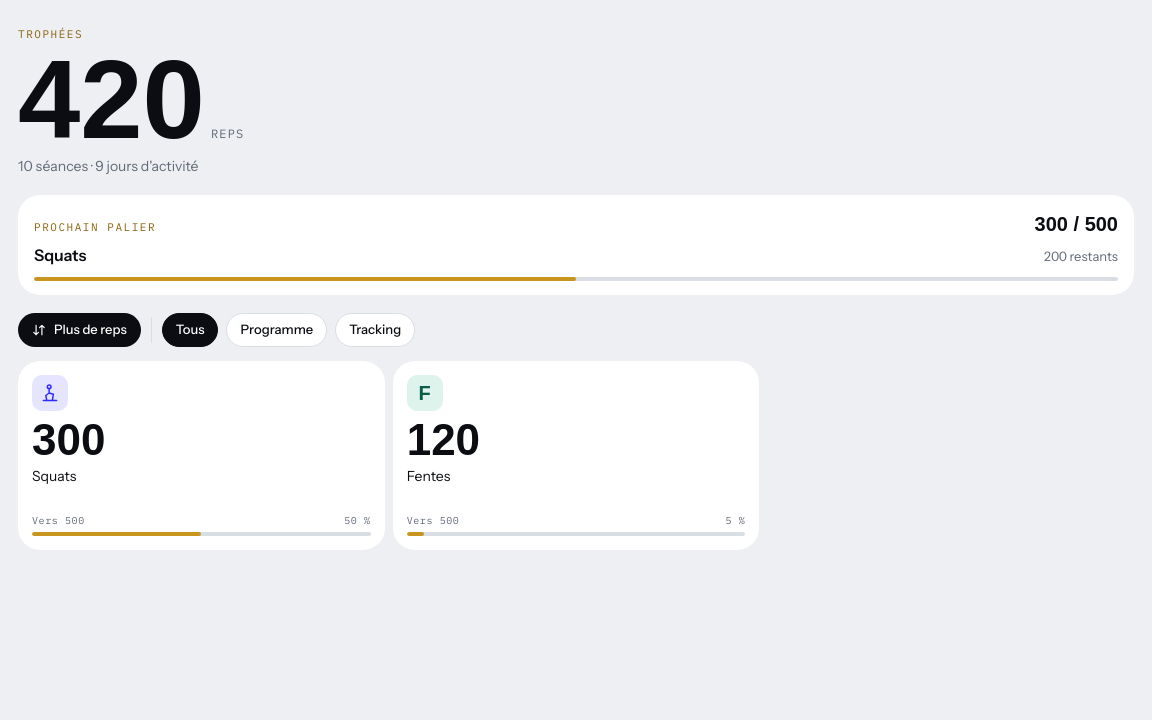
TropheesScreen › cycles the sort with a single button
What coordinates should you click on to do the following:
click the button with aria-label "Trier : Plus de reps"
I would click on:
 (79, 330)
Its box is [18,313,141,347].
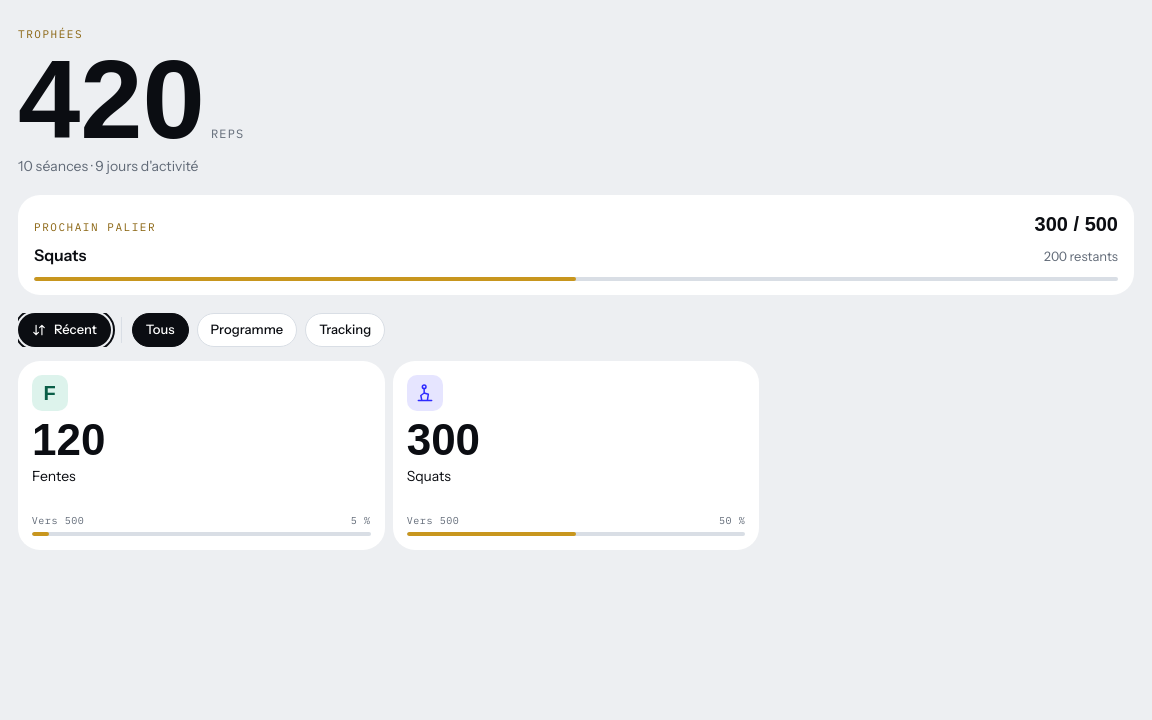
Expected: the button with aria-label "Trier : Récent" is shown
What coordinates should you click on to do the following:
click the button with aria-label "Trier : Récent"
I would click on:
 (64, 330)
Its box is [18,313,111,347].
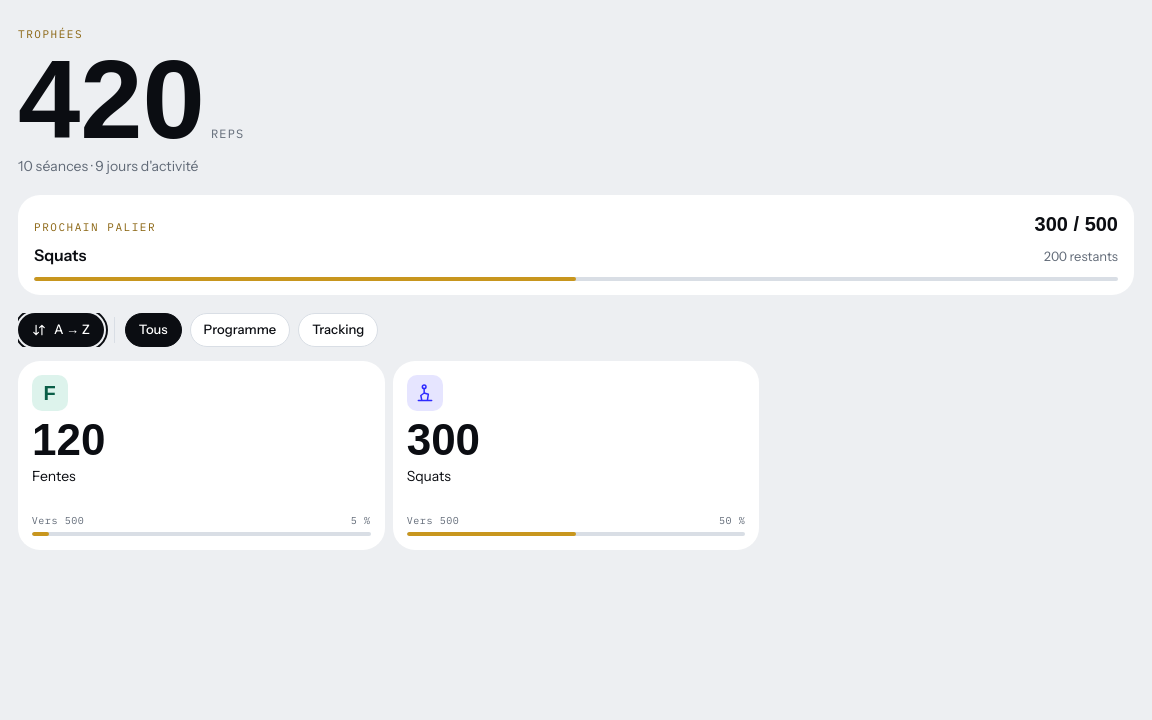
Expected: the button named "Trier : A → Z" is shown, [18,313,104,347]
